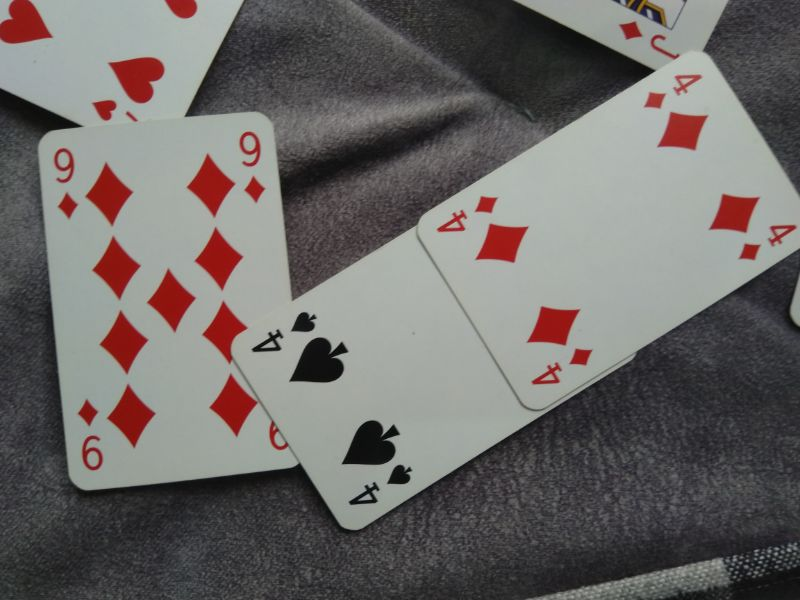4d: (524, 346, 597, 389), (435, 193, 504, 234), (738, 218, 798, 263), (641, 70, 707, 110)
4s: (347, 464, 417, 508), (248, 311, 320, 353)
9d: (49, 140, 83, 224), (236, 128, 268, 209), (74, 398, 107, 473)
Jd: (617, 16, 684, 63)
